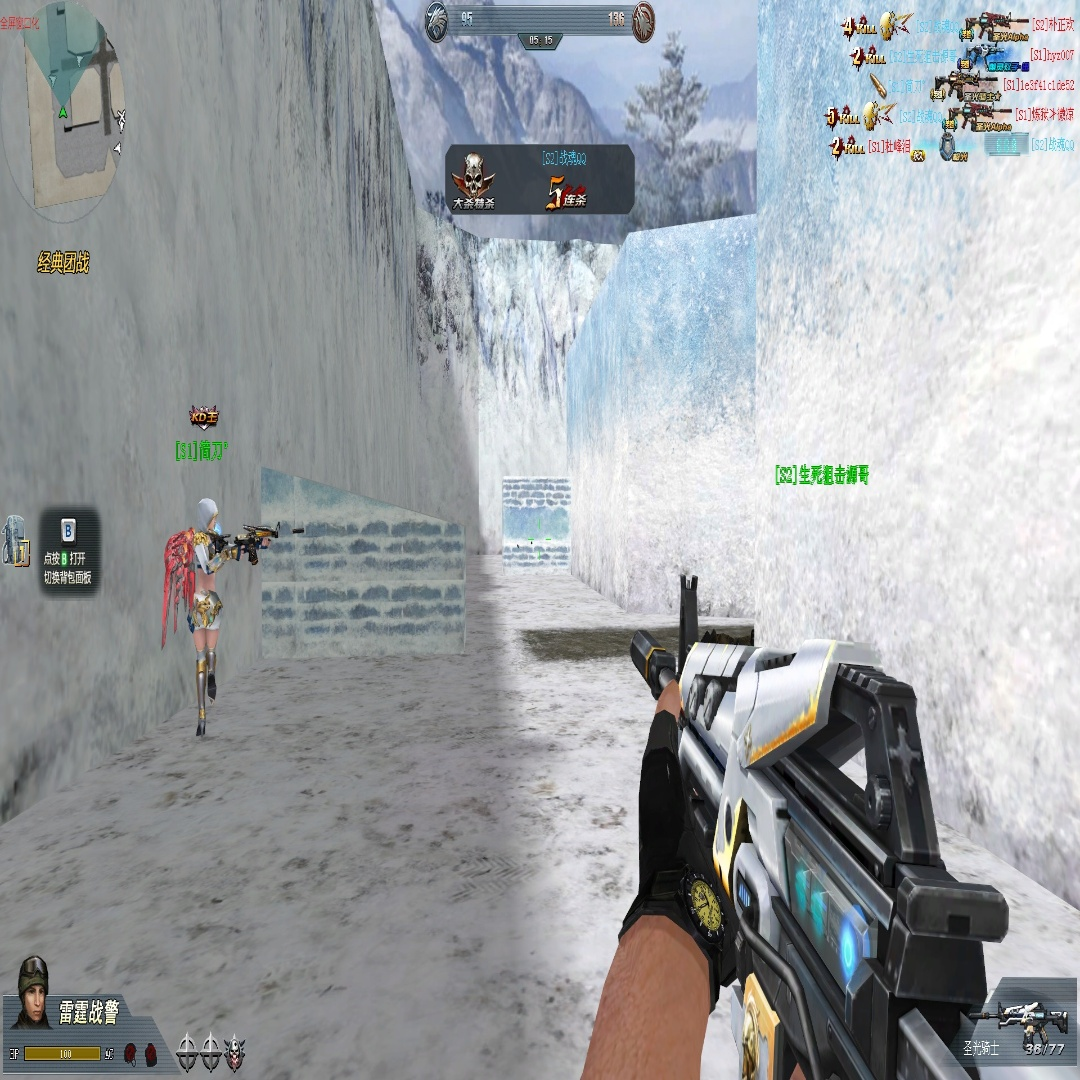ct: (190, 496, 222, 756)
